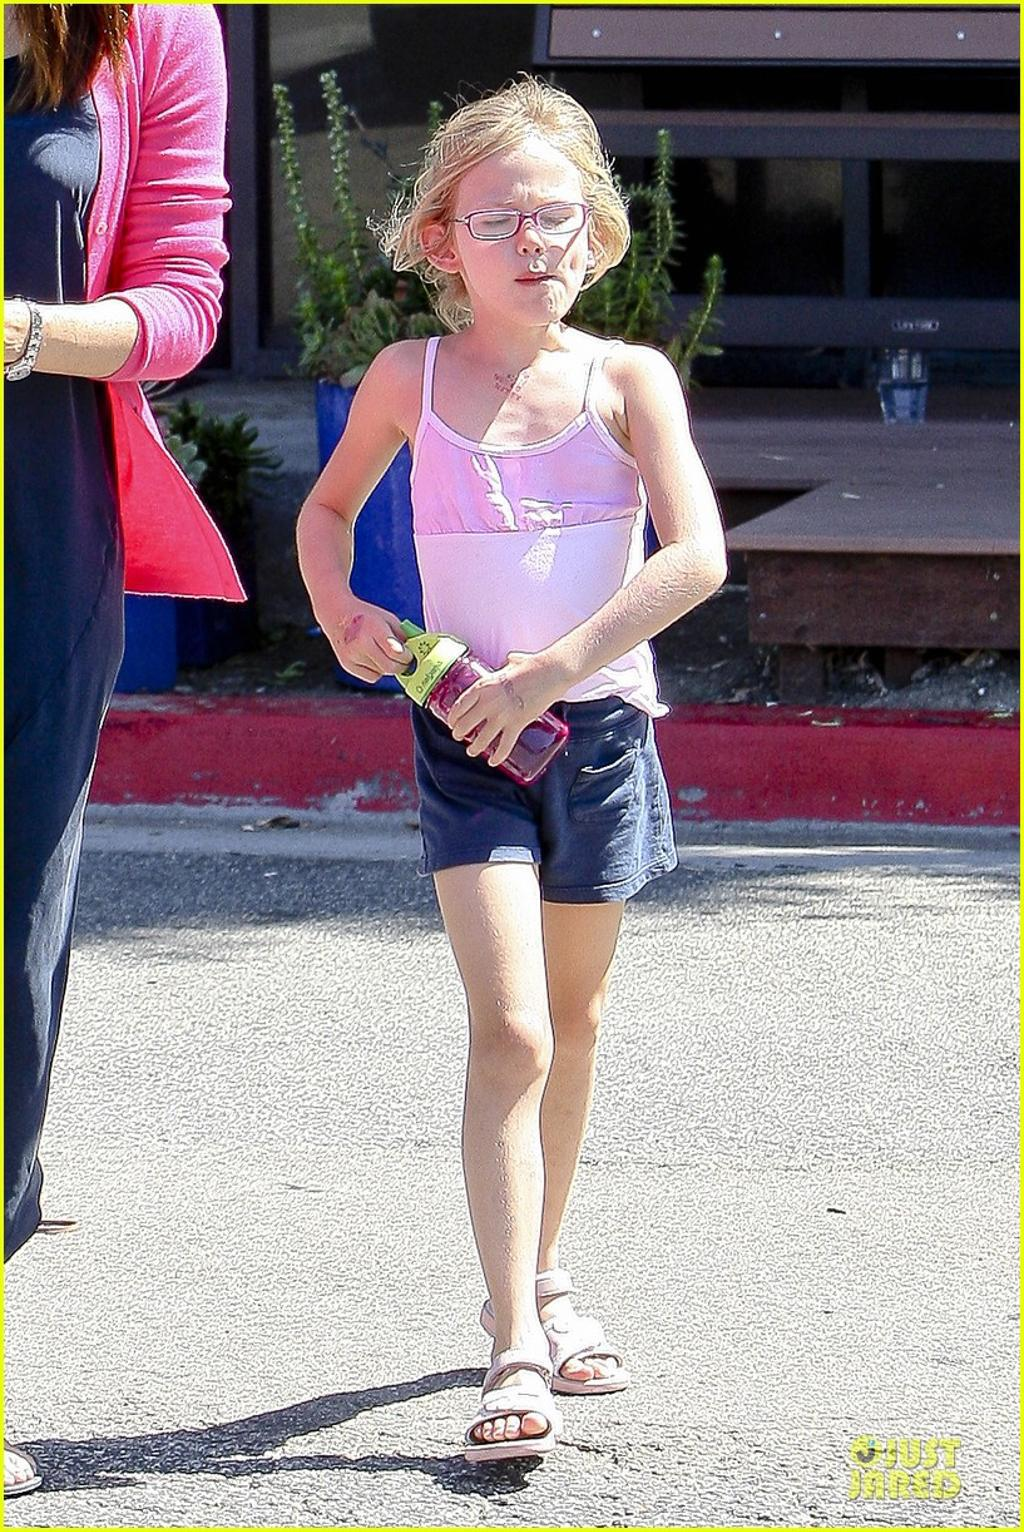face: (453, 148, 588, 334)
